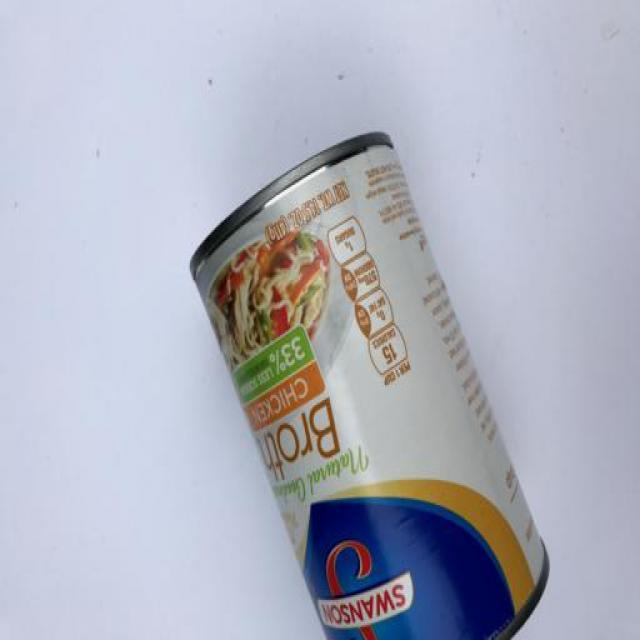metel: (177, 116, 565, 640)
